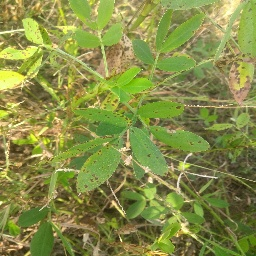GroundNut_Leaf: (76, 138, 122, 194), (133, 127, 169, 178), (230, 55, 256, 106), (178, 10, 204, 49), (238, 1, 256, 54), (23, 18, 54, 47), (67, 1, 98, 30), (156, 55, 199, 75), (137, 101, 184, 119), (171, 131, 211, 152), (121, 67, 152, 94), (155, 9, 174, 52), (95, 113, 130, 135), (16, 208, 51, 227), (156, 223, 180, 250), (30, 230, 54, 256), (133, 39, 154, 63), (101, 87, 120, 113), (102, 25, 123, 48), (73, 32, 101, 49), (159, 1, 223, 8), (1, 72, 27, 89), (125, 199, 146, 219), (1, 50, 45, 59), (99, 1, 114, 23), (168, 192, 183, 212), (233, 114, 251, 128), (56, 168, 70, 184), (185, 214, 206, 224)
